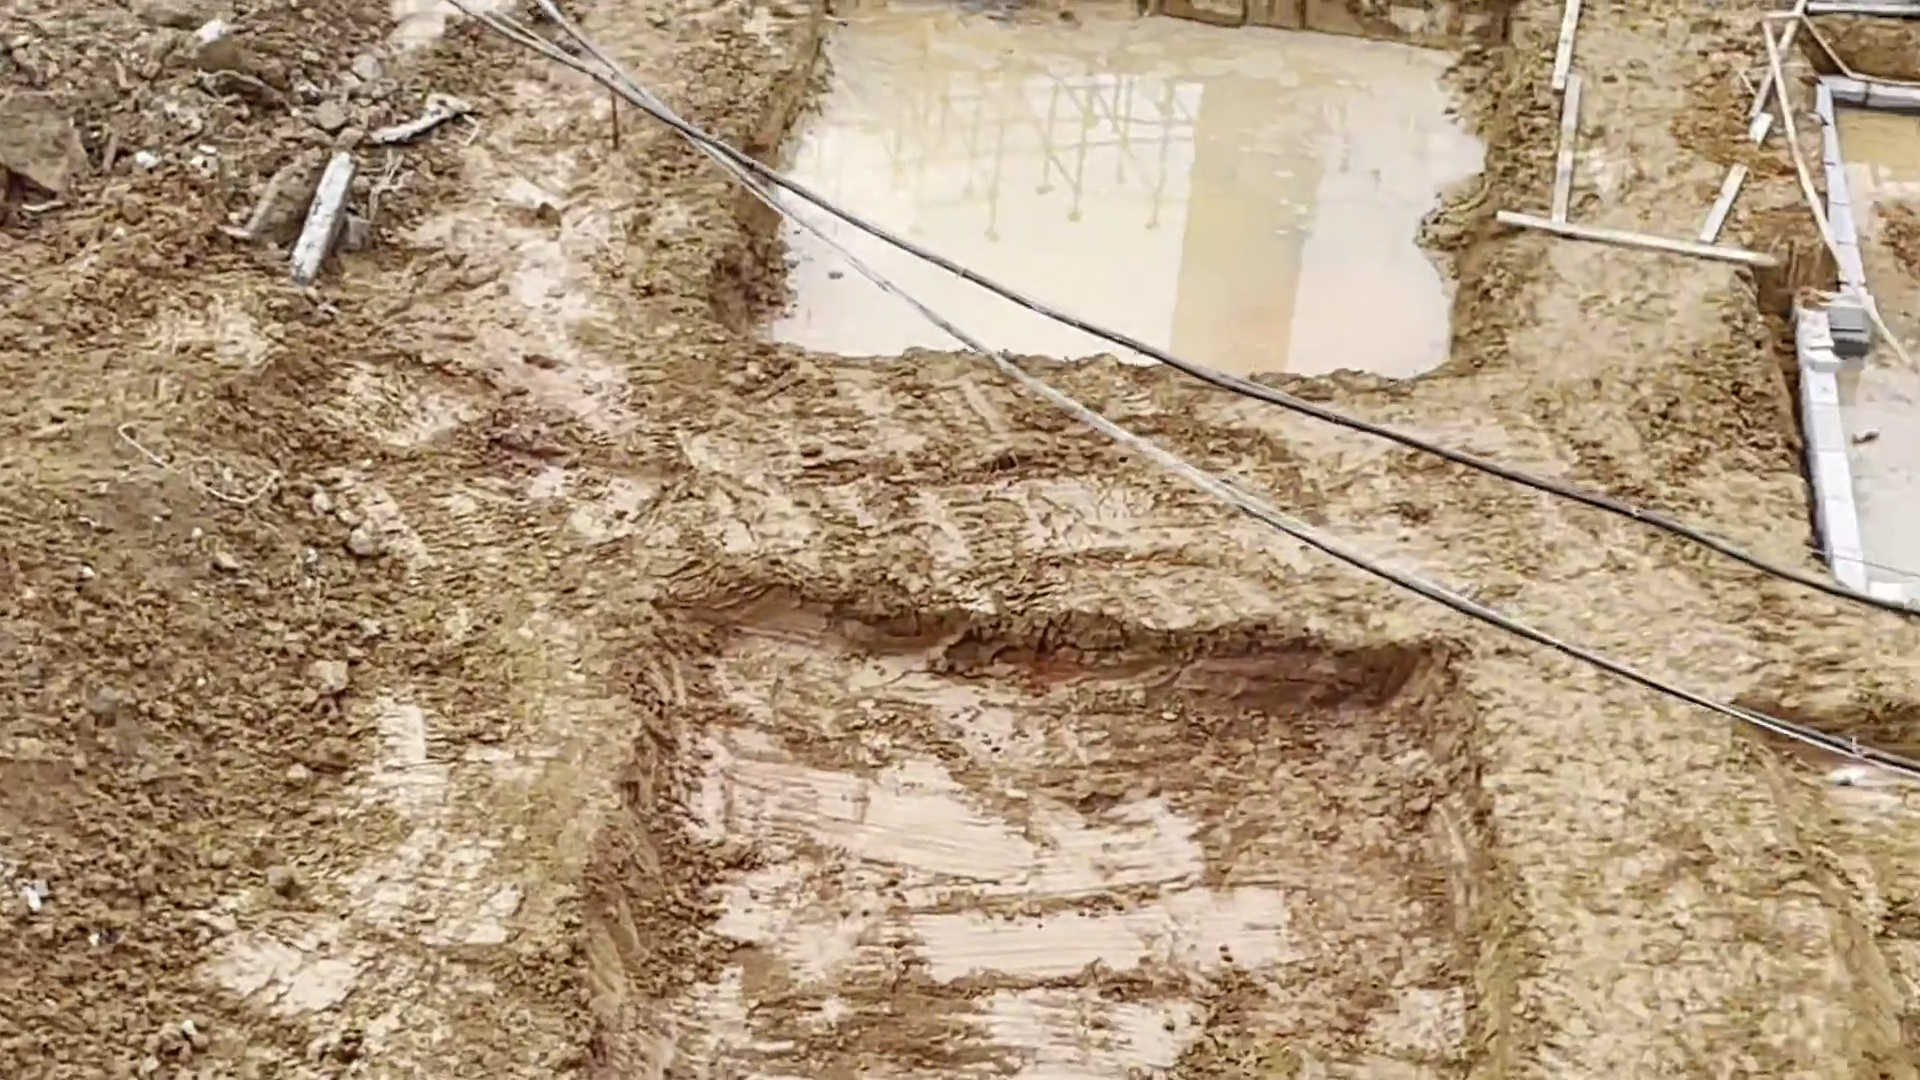brick: (1796, 305, 1858, 585), (1817, 79, 1869, 345), (1849, 78, 1920, 108), (1867, 578, 1920, 608)
